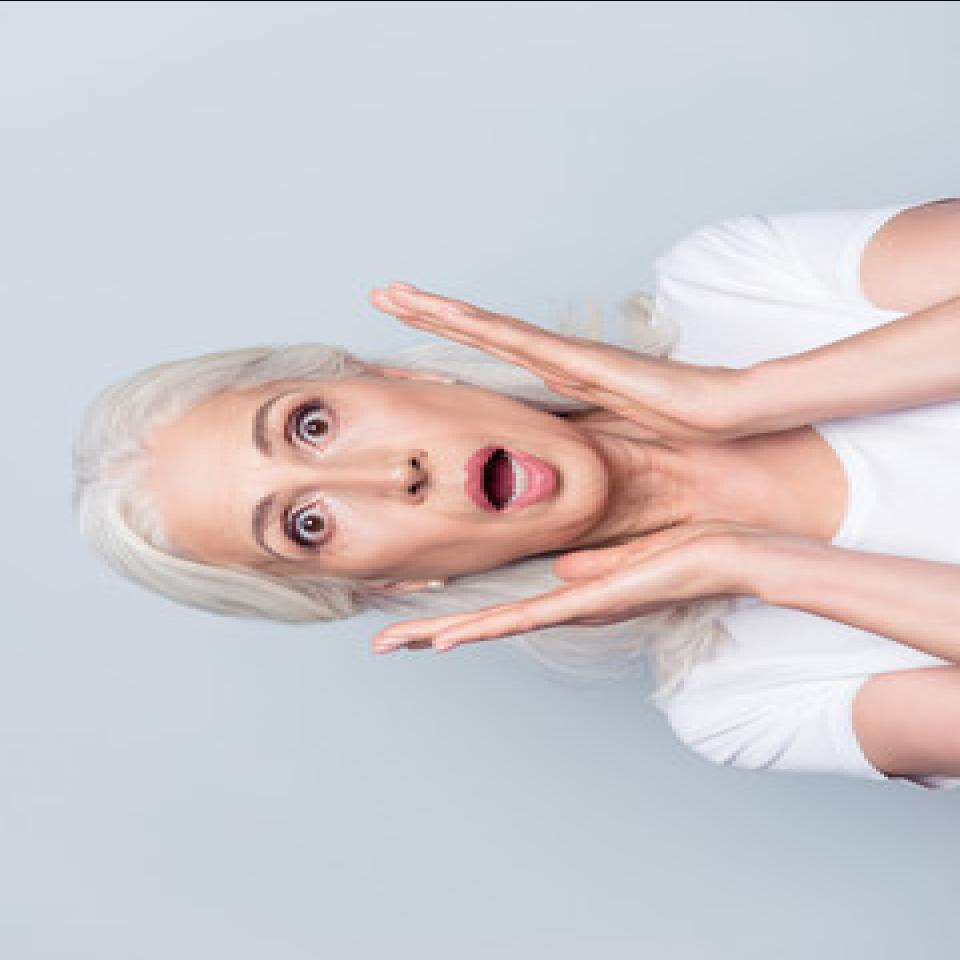Scared: (204, 286, 674, 651)
